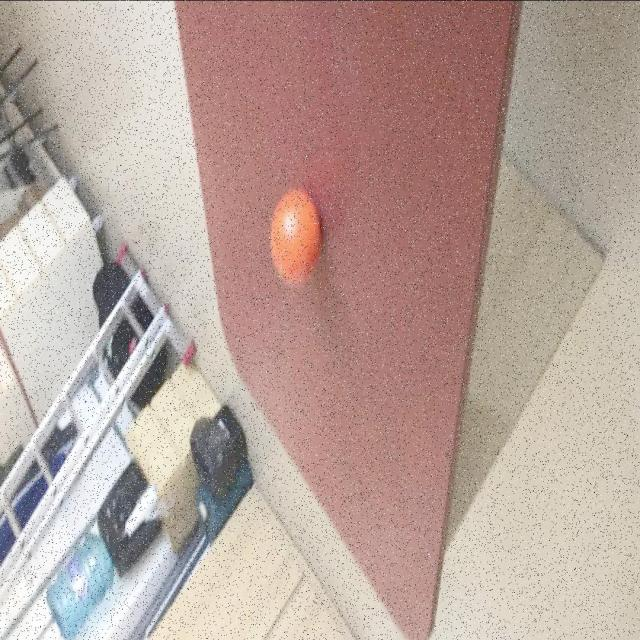Orange: (268, 186, 320, 285)
